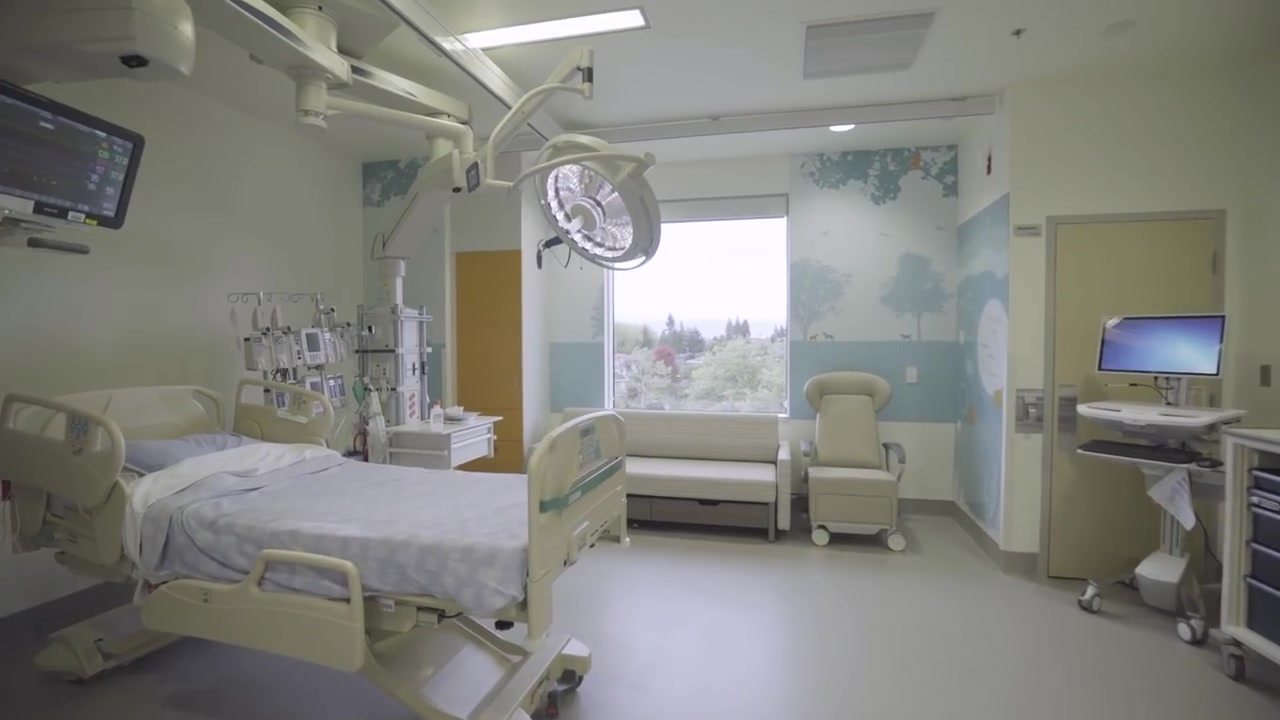bedrail: (139, 547, 366, 677), (1, 393, 130, 504), (235, 376, 339, 448)
bedside_monitor: (1, 78, 146, 230), (1093, 312, 1225, 377)
chair: (798, 369, 908, 553)
foot_board: (525, 411, 629, 586)
hospital_bed: (2, 379, 625, 720)
infusion_pump: (246, 329, 348, 370), (271, 371, 349, 424)
iv_pole: (230, 291, 282, 350), (294, 293, 326, 351)
keyboard: (1079, 439, 1200, 465)
light_switch: (906, 366, 917, 384)
medical_drawer: (1212, 427, 1280, 686), (389, 410, 505, 468)
mouse: (1197, 456, 1223, 469)
sofa: (526, 406, 792, 544)
surgical_light: (533, 132, 662, 273)
